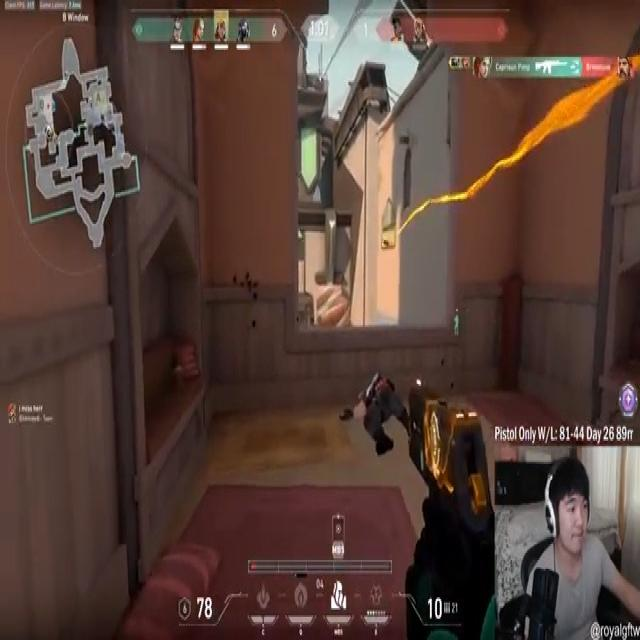ally behind wall: (454, 309, 460, 340)
